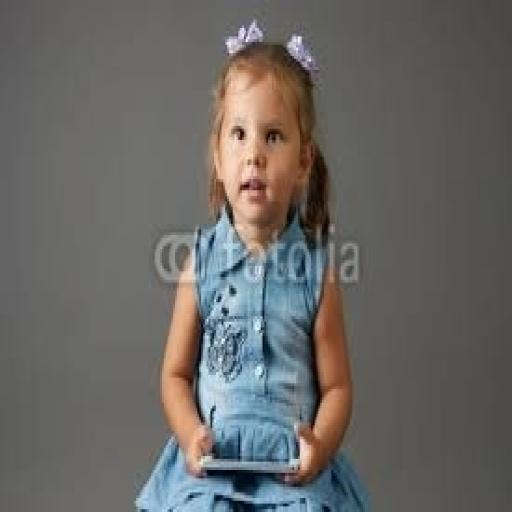texting: (132, 20, 371, 509)
